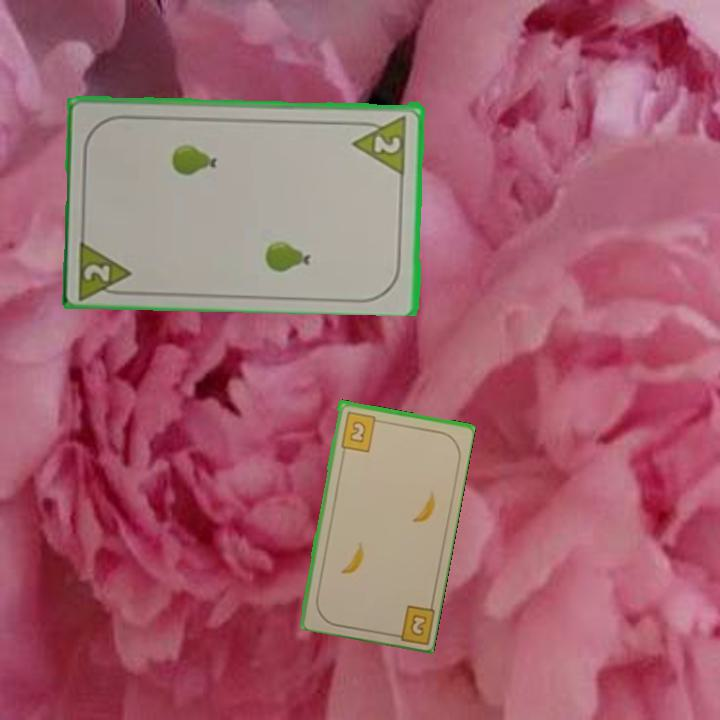2b: (386, 601, 436, 645), (337, 408, 384, 454)
2p: (75, 235, 136, 300), (350, 111, 410, 175)
